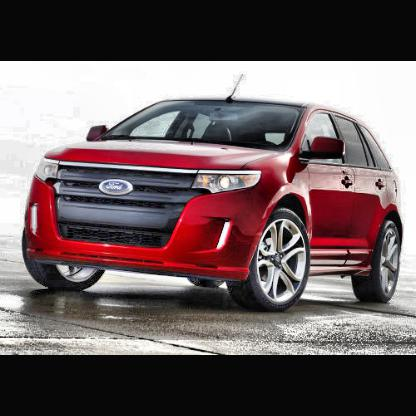Ford Edge SUV 2012: (23, 97, 404, 313)
